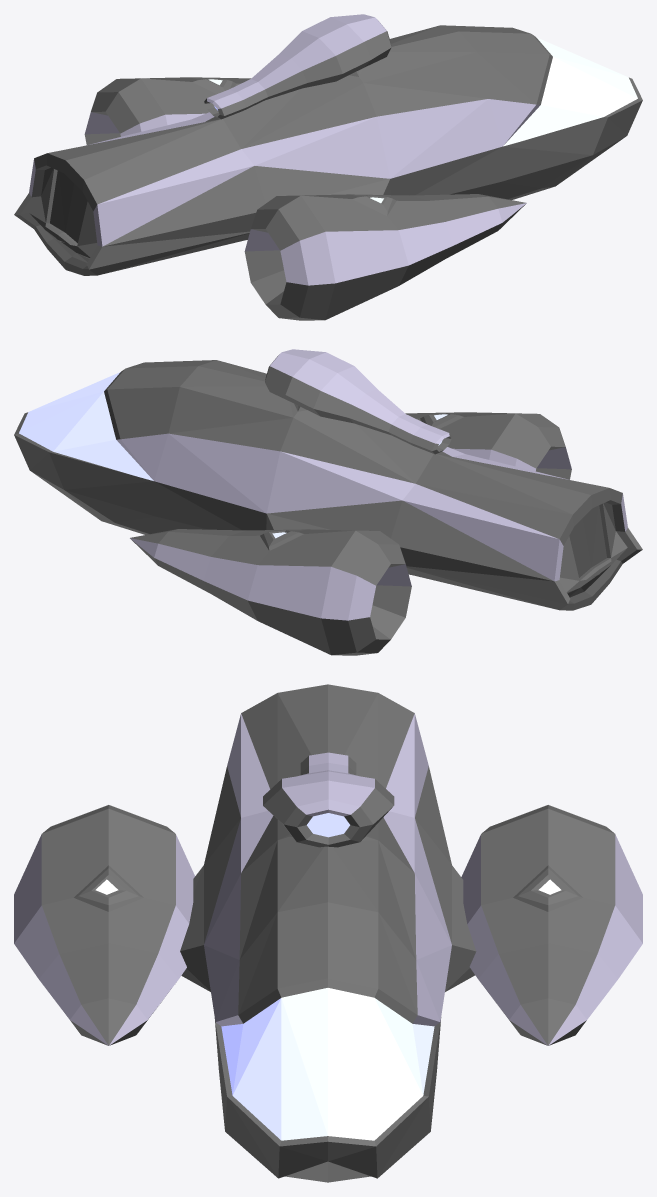
Rendered from starship1.fbx.
3 renders of one model, top to bottom at view 1: azimuth 30°, elevation 25°; view 2: azimuth 150°, elevation 25°; view 3: azimuth 270°, elevation 25°, orthographic. The views are drawn at different scales.
Parts seen in each view (by area): view 1: Cube; view 2: Cube; view 3: Cube.
Part boxes in pixels (x1=…): Cube: x1=14, y1=14, x2=642, y2=320; Cube: x1=14, y1=349, x2=642, y2=655; Cube: x1=14, y1=684, x2=642, y2=1182.
Bounding box in the file's own units: 703 × 240 × 480.
